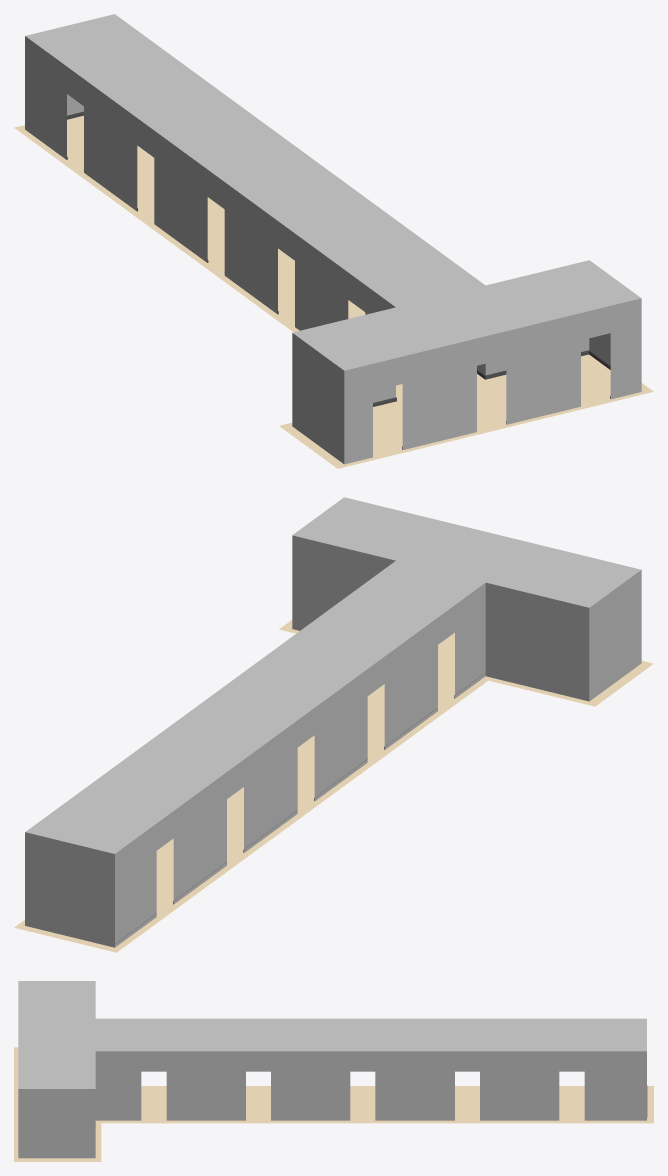
Rendered from Corridor.fbx.
The picture shows the model from 3 angles, top to bottom: view 1: azimuth 30°, elevation 25°; view 2: azimuth 150°, elevation 25°; view 3: azimuth 270°, elevation 25°; orthographic projection. The views are drawn at different scales.
Visible parts, largest first — view 1: Corridor, Floor, Baseboards; view 2: Corridor, Floor; view 3: Corridor, Floor.
Part boxes in pixels (left/top/right/bottom): Corridor: left=25, top=14, right=641, bottom=464; Floor: left=14, top=115, right=653, bottom=468; Baseboards: left=25, top=111, right=610, bottom=449; Corridor: left=25, top=497, right=641, bottom=947; Floor: left=14, top=620, right=653, bottom=952; Corridor: left=18, top=981, right=646, bottom=1158; Floor: left=14, top=1047, right=653, bottom=1161.
Size of the model in its own units: 986 by 280 by 2326.
